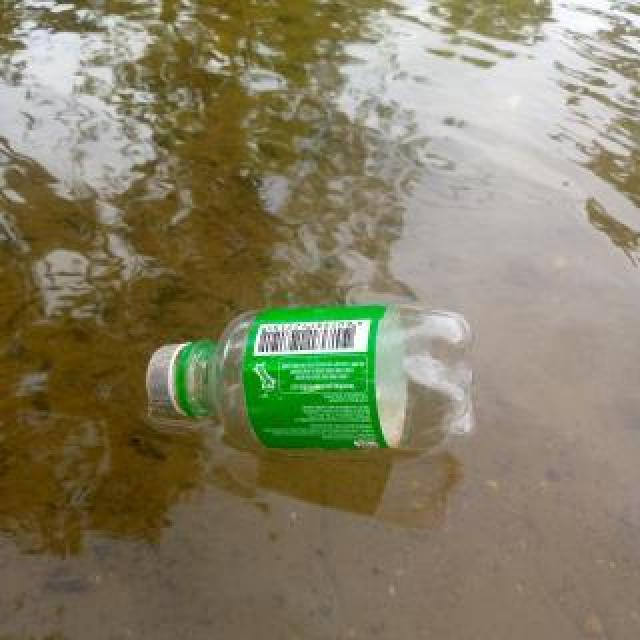bottle: (145, 301, 477, 457)
